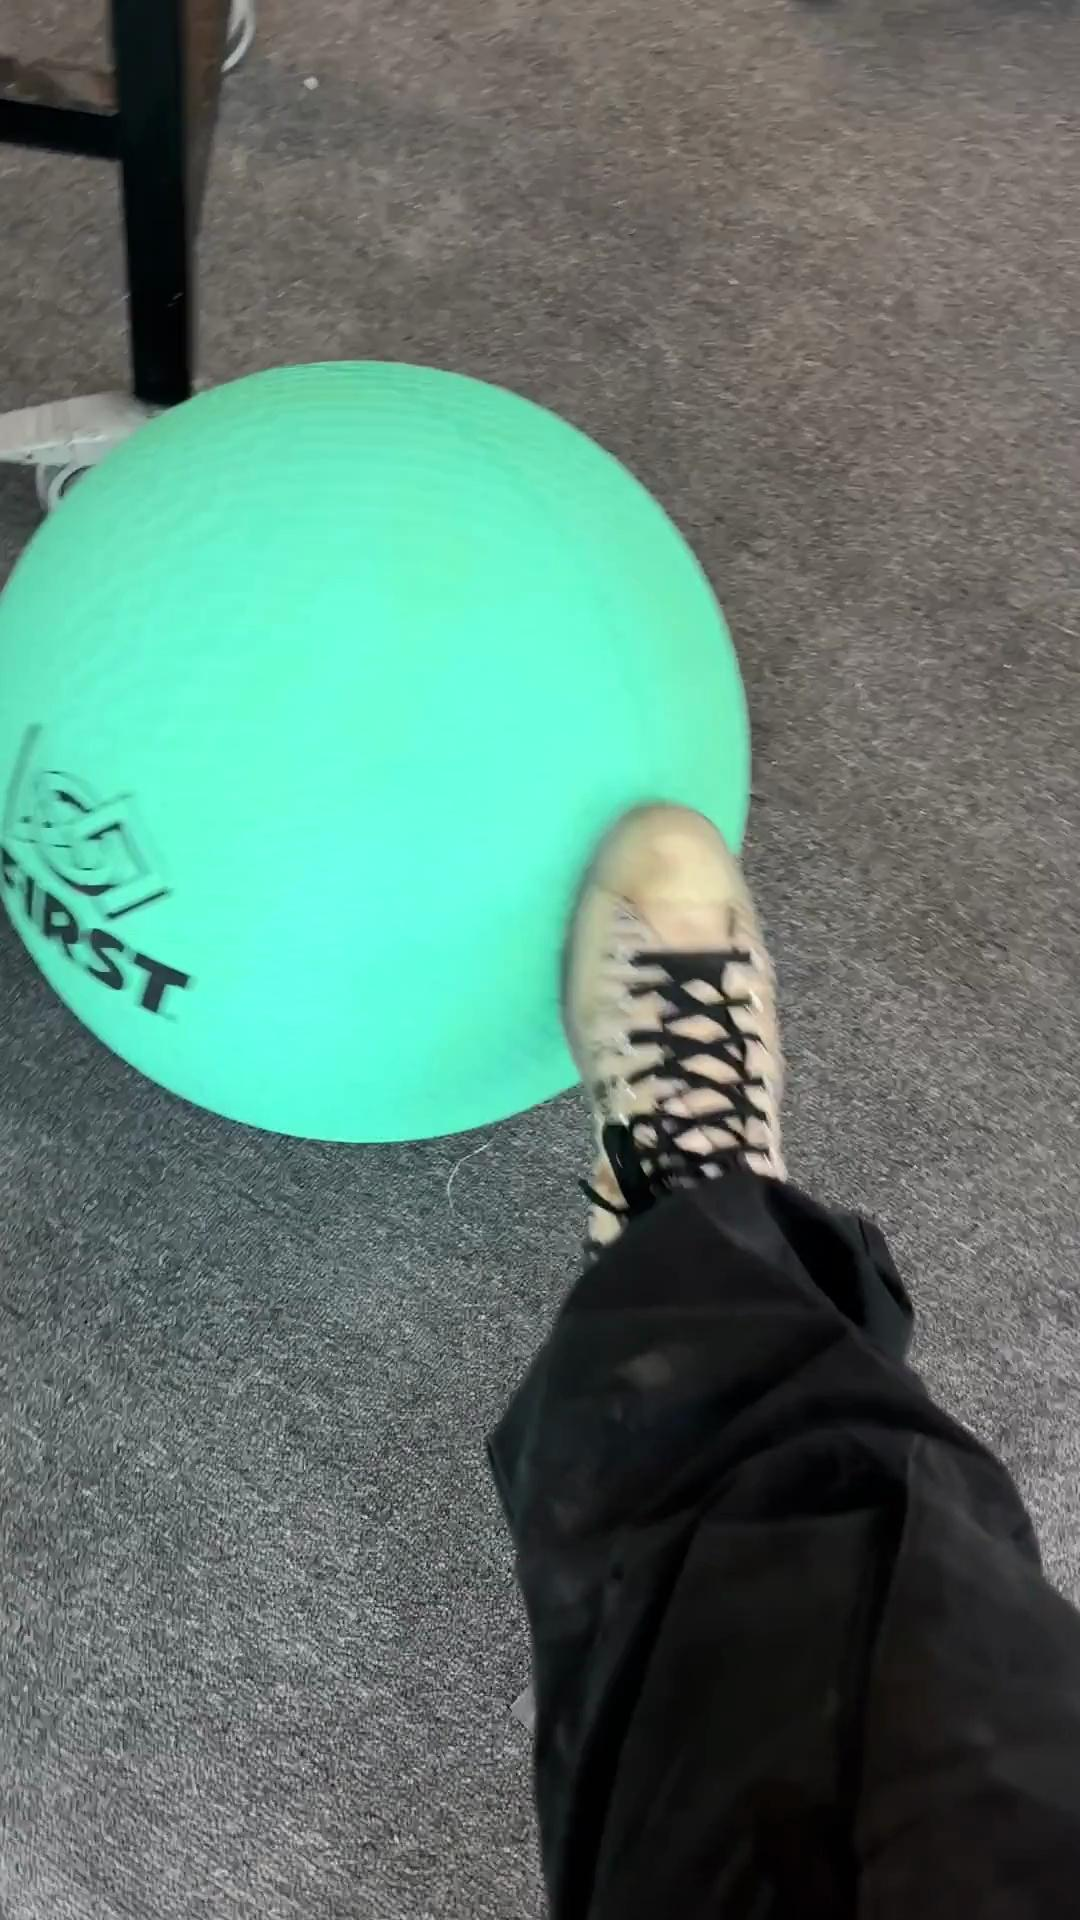ALGAE: (3, 355, 754, 1147)
